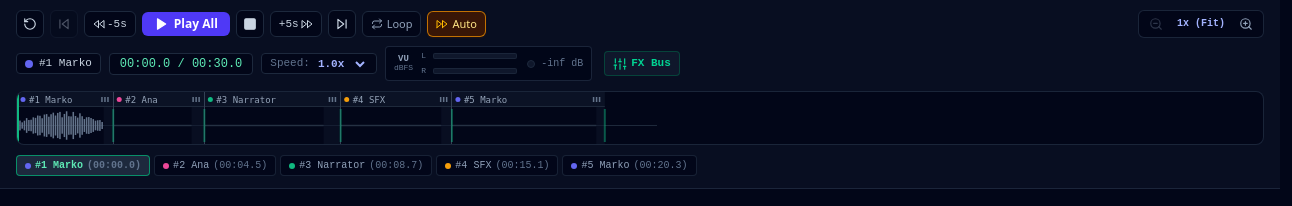
Test case: Timeline Pause Drag, Segment Scroll Linkage, Reorganized Header & Block Collapsing › zooms in, zooms out, resets zoom and scrolls horizontally on EpisodeWaveformTransport
Check: the button with test id "transport-zoom-reset-btn" reads "1x (Fit)", box [1171, 15, 1231, 33]
What coordinates should you click on to do the following:
click the button with test id "transport-zoom-in-btn"
I would click on:
 (1246, 24)
Its box is [1235, 13, 1257, 35].
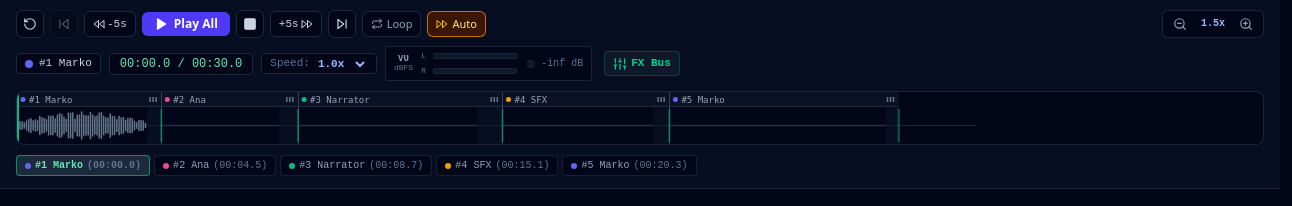
Check: the button with test id "transport-zoom-reset-btn" reads "1.5x", box [1195, 15, 1231, 33]
What coordinates should you click on to do the following:
click the button with test id "transport-zoom-in-btn"
I would click on:
 (1246, 24)
Its box is [1235, 13, 1257, 35].
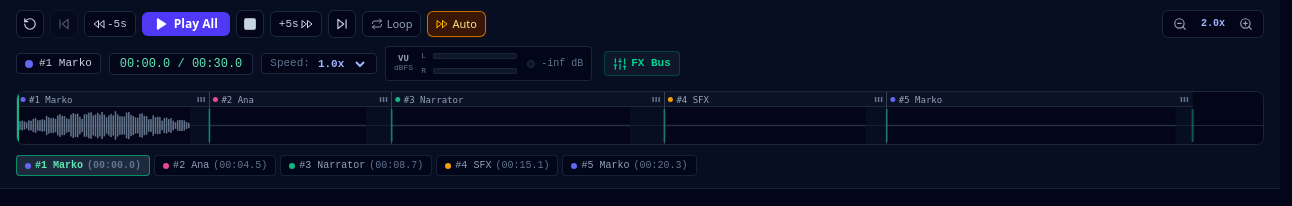
Check: the button with test id "transport-zoom-reset-btn" reads "2.0x", box [1195, 15, 1231, 33]
What coordinates should you click on to do the following:
click the button with test id "transport-zoom-out-btn"
I would click on:
 (1180, 24)
Its box is [1169, 13, 1191, 35].
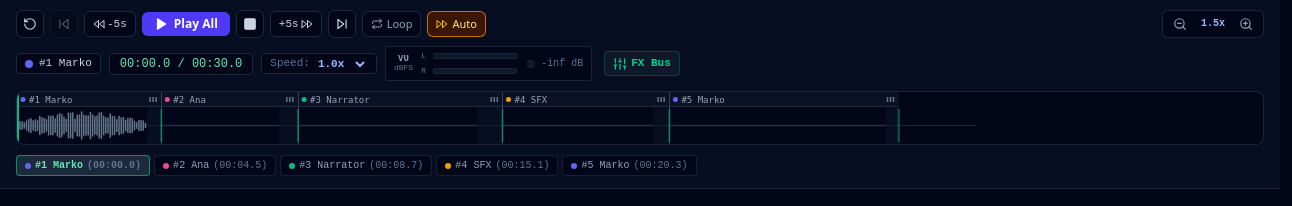
Check: the button with test id "transport-zoom-reset-btn" reads "1.5x"
What coordinates should you click on to do the following:
click the button with test id "transport-zoom-reset-btn"
I would click on:
 (1213, 24)
Its box is [1195, 15, 1231, 33].
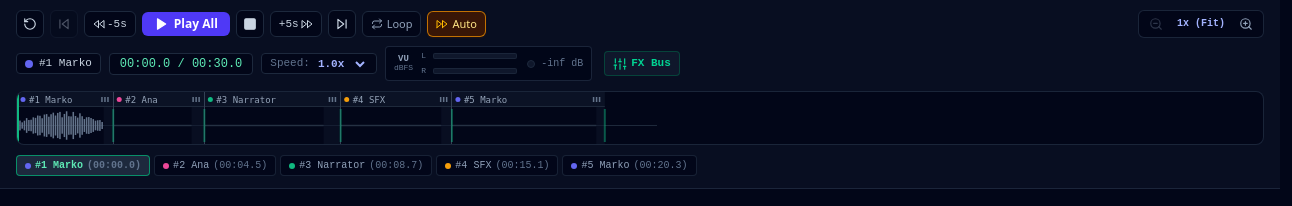
Check: the button with test id "transport-zoom-reset-btn" reads "1x (Fit)", box [1171, 15, 1231, 33]
